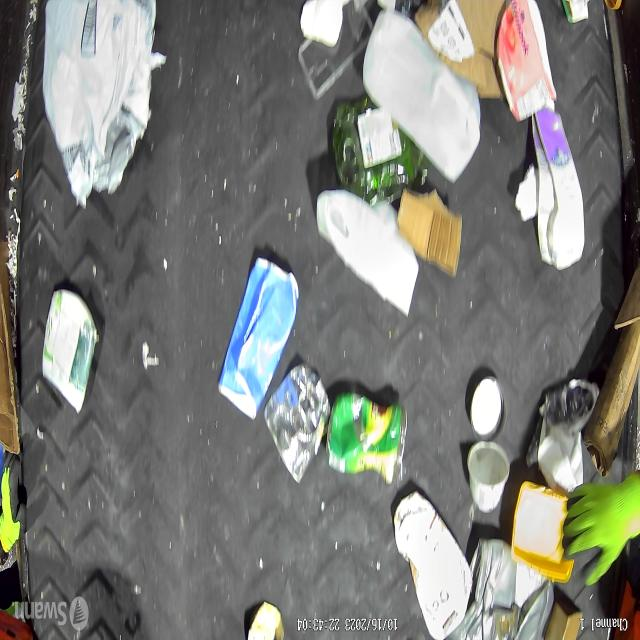can: (264, 360, 329, 484), (325, 391, 407, 485)
milk_jug: (362, 9, 481, 184), (316, 188, 420, 317)
non_white_jug: (394, 490, 472, 640), (447, 538, 555, 640), (531, 98, 585, 269)
plastic_bottle: (332, 95, 428, 206)
